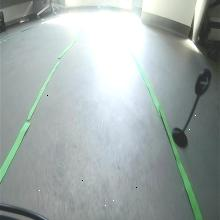right: (194, 68, 212, 98)
